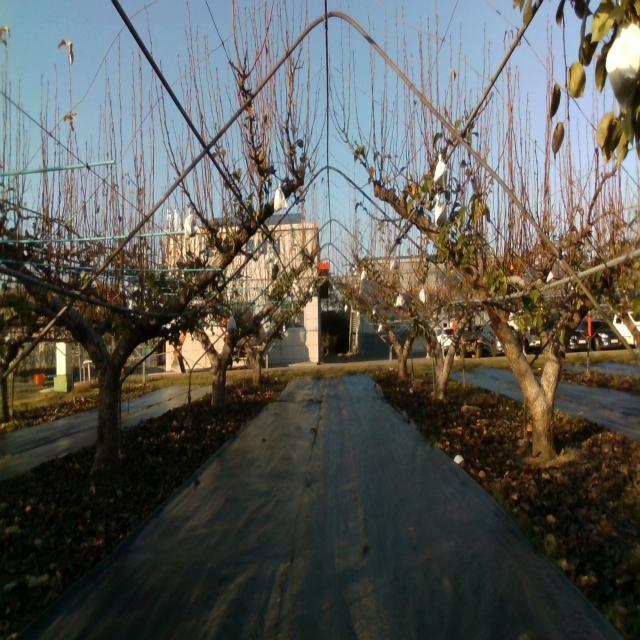pearbags: (605, 22, 640, 106), (434, 152, 449, 191), (434, 194, 447, 225), (184, 211, 198, 239), (274, 187, 287, 213)
